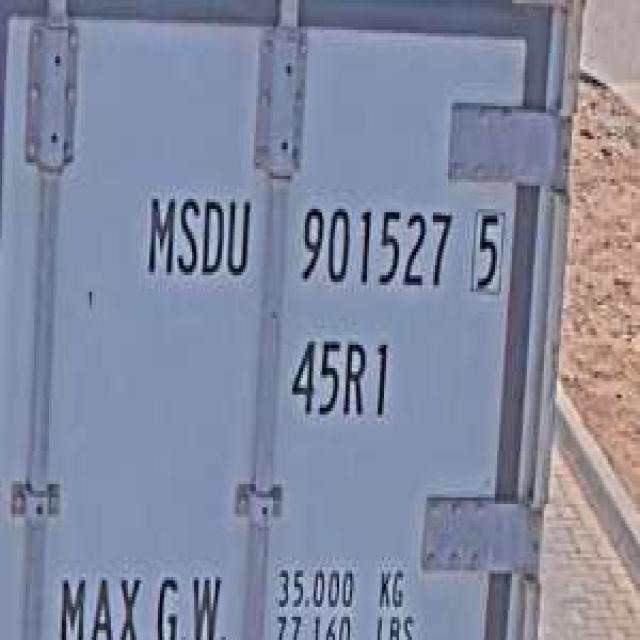dv: (466, 203, 512, 303)
owner: (141, 183, 257, 288)
serial: (292, 198, 459, 299)
size: (282, 327, 400, 425)
